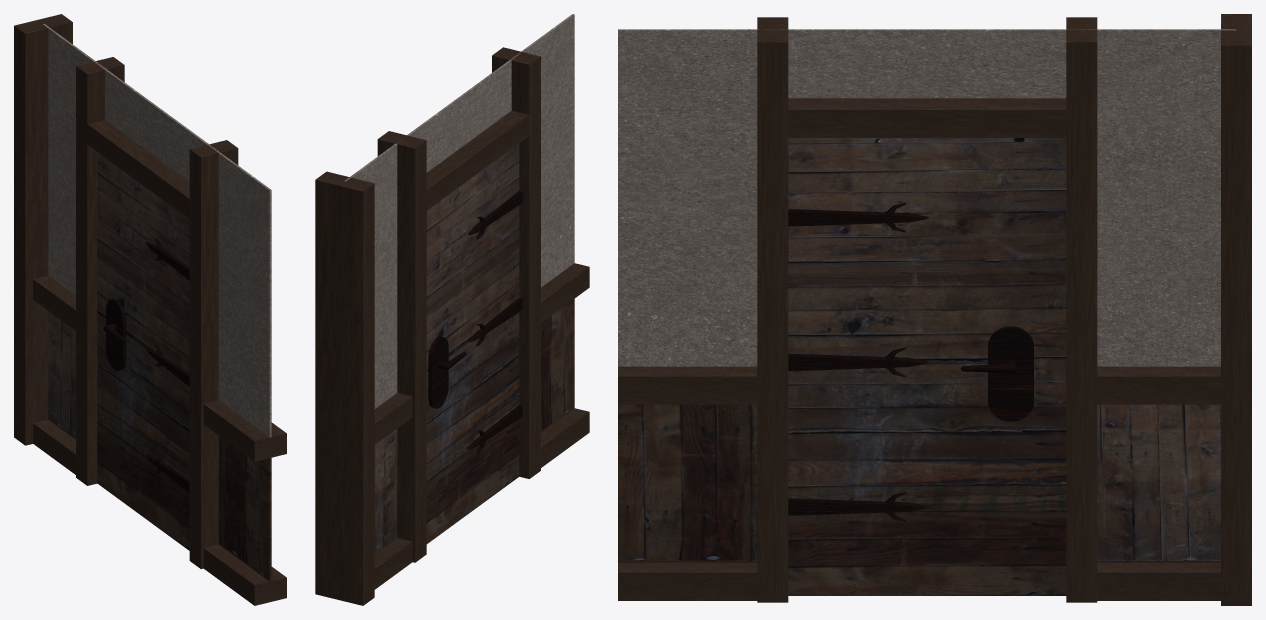
File: OutdoorArchitecture_BasicWall02_Door01_Closed_RightEdge_BShortt.fbx
3 renders of one model, left to right at view 1: azimuth 30°, elevation 25°; view 2: azimuth 150°, elevation 25°; view 3: azimuth 270°, elevation 25°, orthographic. The views are drawn at different scales.
Parts seen in each view (by area): view 1: OutdoorArchitecture_BasicWall02_Door01_Closed_RightEdge_BSho; view 2: OutdoorArchitecture_BasicWall02_Door01_Closed_RightEdge_BSho; view 3: OutdoorArchitecture_BasicWall02_Door01_Closed_RightEdge_BSho.
Boxes of the visible parts, x1,y1,x2,y2 form: OutdoorArchitecture_BasicWall02_Door01_Closed_RightEdge_BSho: (14,14,286,605); OutdoorArchitecture_BasicWall02_Door01_Closed_RightEdge_BSho: (315,14,589,605); OutdoorArchitecture_BasicWall02_Door01_Closed_RightEdge_BSho: (618,14,1251,605).
Bounding box in the file's own units: 36.37 × 300 × 308.
